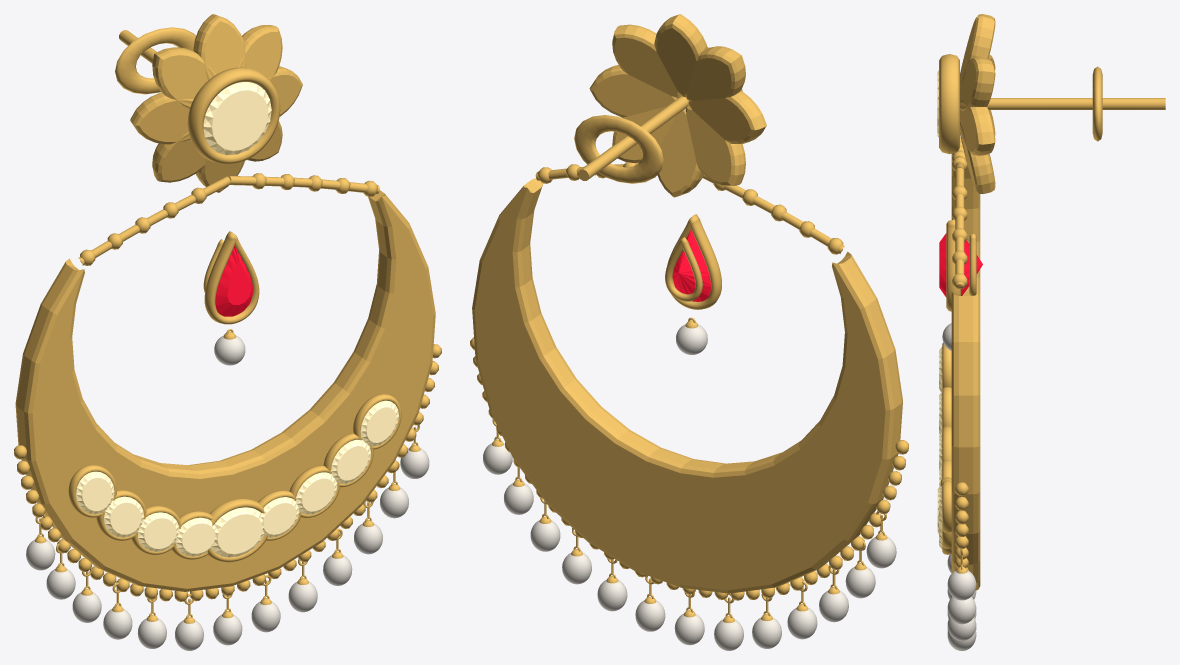
The model's file is chandbali-kundan.glb.
The picture shows the model from 3 angles, left to right: view 1: azimuth 30°, elevation 25°; view 2: azimuth 150°, elevation 25°; view 3: azimuth 270°, elevation 25°; orthographic projection. The views are drawn at different scales.
Visible parts, largest first — view 1: chandbali-kundan_gold22k, chandbali-kundan_kundan, chandbali-kundan_pearl, chandbali-kundan_ruby; view 2: chandbali-kundan_gold22k, chandbali-kundan_pearl, chandbali-kundan_ruby; view 3: chandbali-kundan_gold22k, chandbali-kundan_pearl, chandbali-kundan_kundan, chandbali-kundan_ruby.
Part boxes in pixels (box(x1,y1,x2,y2)): chandbali-kundan_gold22k: box(14, 14, 441, 623); chandbali-kundan_kundan: box(76, 82, 398, 557); chandbali-kundan_pearl: box(26, 335, 429, 650); chandbali-kundan_ruby: box(215, 245, 252, 316); chandbali-kundan_gold22k: box(470, 14, 908, 623); chandbali-kundan_pearl: box(483, 324, 896, 650); chandbali-kundan_ruby: box(672, 229, 710, 301); chandbali-kundan_gold22k: box(939, 14, 1165, 590); chandbali-kundan_pearl: box(942, 323, 976, 650); chandbali-kundan_kundan: box(937, 70, 942, 549); chandbali-kundan_ruby: box(939, 233, 982, 297).
Size of the model in its own units: 2.35 by 3.28 by 1.11.
